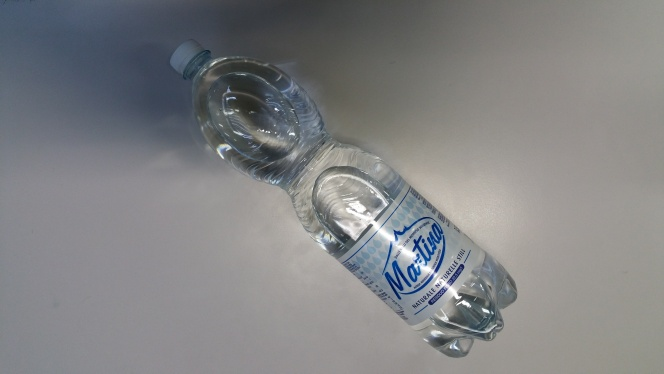bottle: (158, 33, 521, 362)
